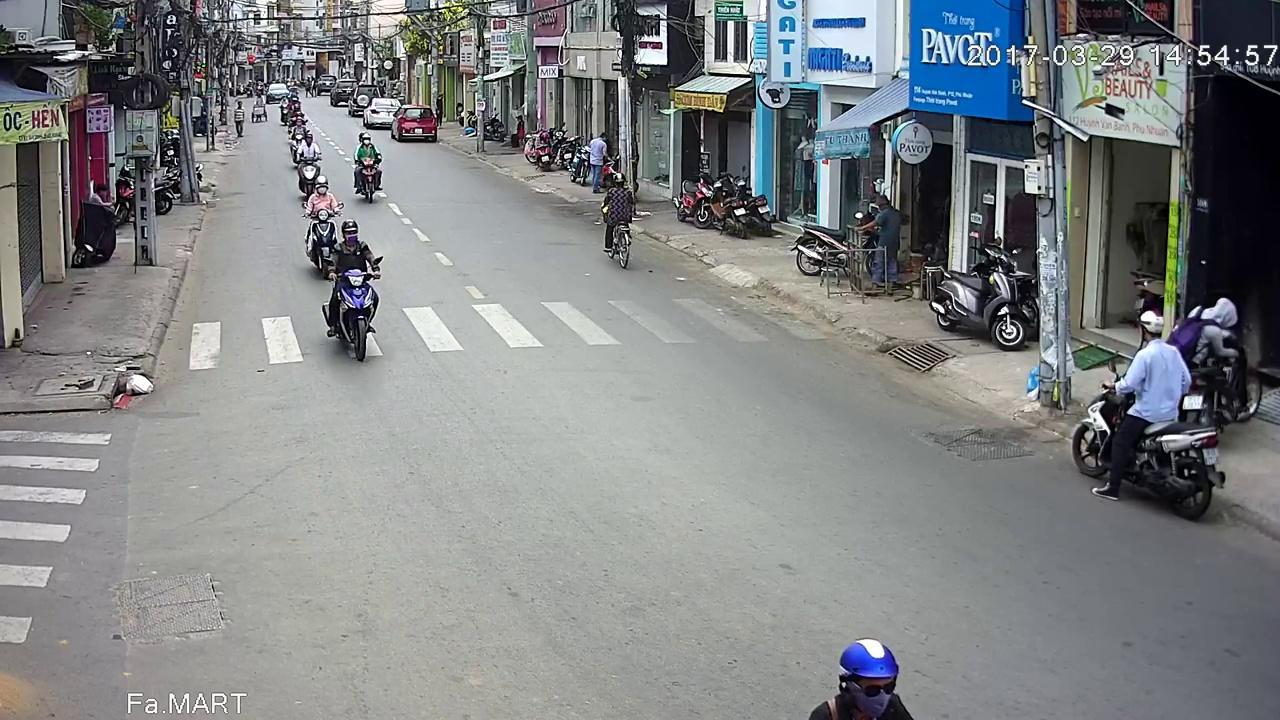xe dap: (601, 170, 638, 269)
xe hoi: (388, 38, 437, 78), (360, 32, 401, 63)
xe may: (1070, 295, 1230, 517), (322, 222, 384, 367), (303, 176, 344, 283), (356, 135, 387, 203), (295, 133, 322, 202)
